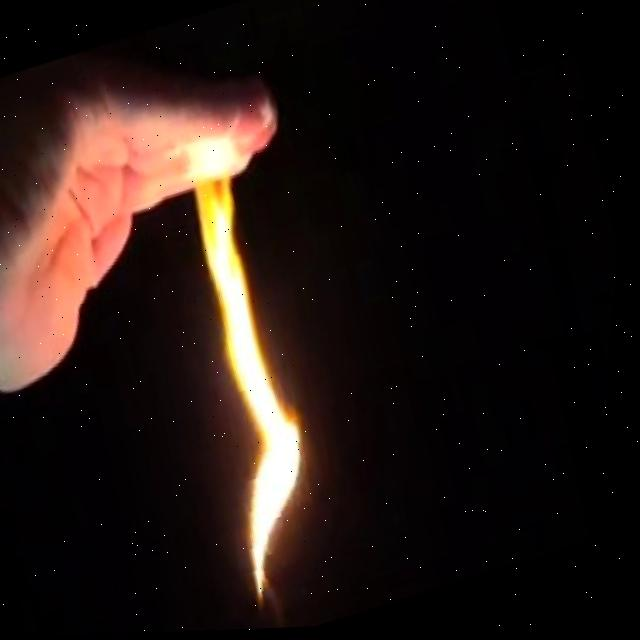Fire: (123, 112, 376, 624)
